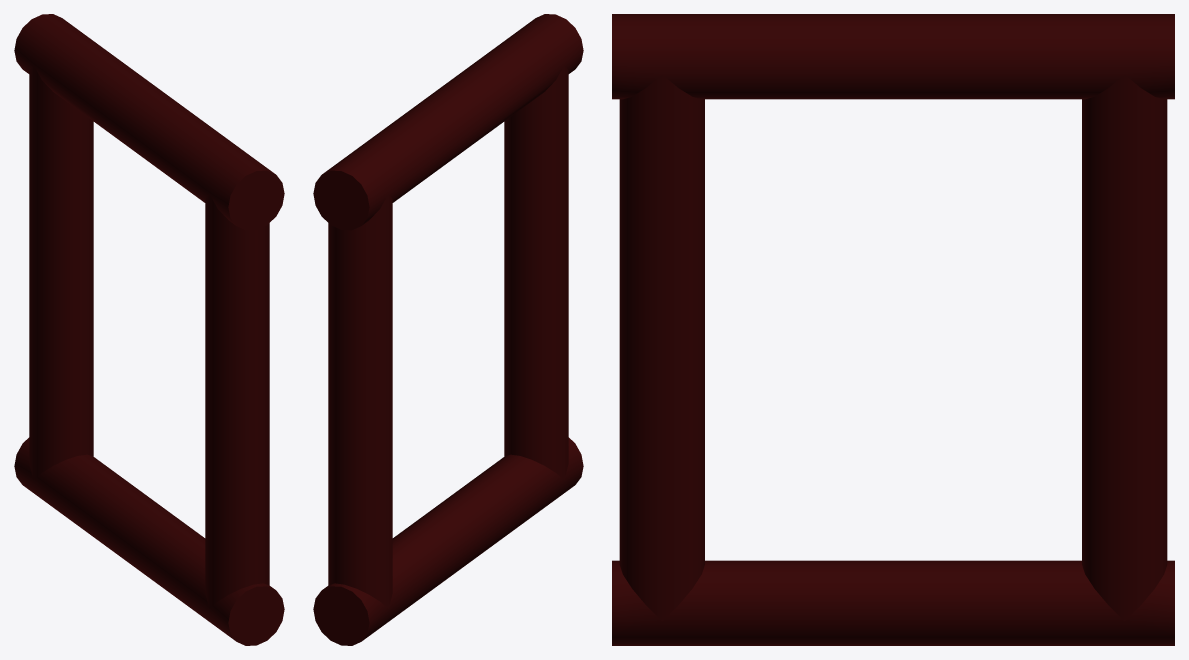
File: tie.obj
The picture shows the model from 3 angles, left to right: view 1: azimuth 30°, elevation 25°; view 2: azimuth 150°, elevation 25°; view 3: azimuth 270°, elevation 25°; orthographic projection. The views are drawn at different scales.
Visible parts, largest first — view 1: hydraulic.001; view 2: hydraulic.001; view 3: hydraulic.001.
Boxes of the visible parts, x1,y1,x2,y2 form: hydraulic.001: (14, 14, 284, 645); hydraulic.001: (313, 14, 583, 645); hydraulic.001: (612, 14, 1174, 645).
Bounding box in the file's own units: 0.1402 × 1.13 × 0.924.
